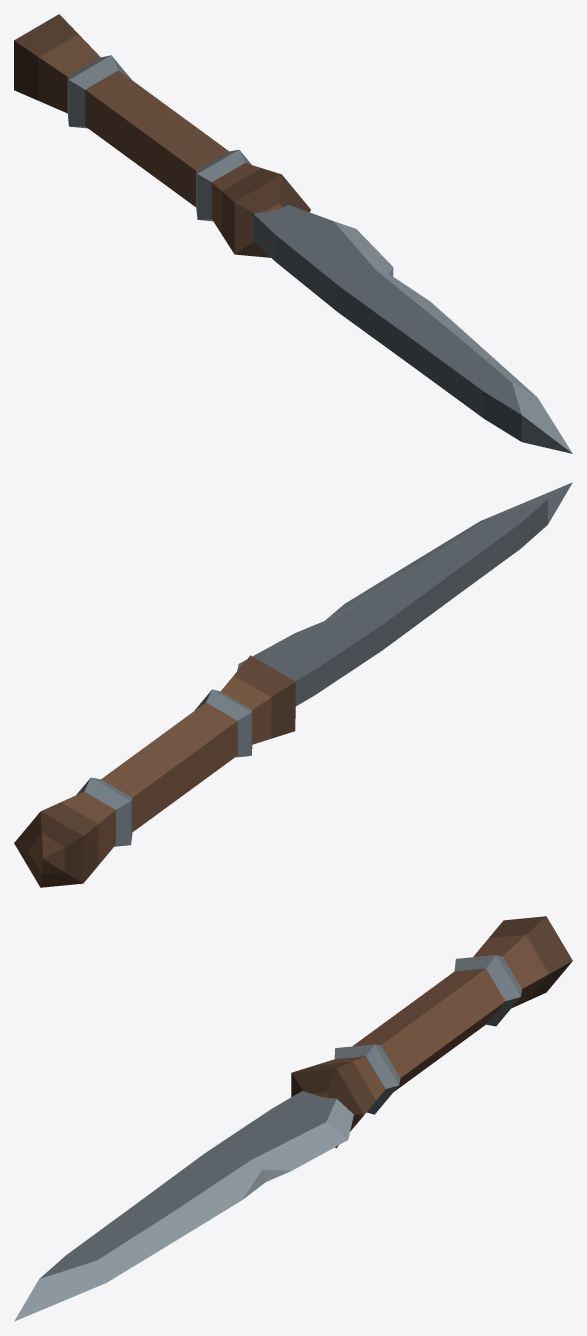
The model's file is SM_Prop_Knife_01.fbx.
3 renders of one model, top to bottom at view 1: azimuth 30°, elevation 25°; view 2: azimuth 150°, elevation 25°; view 3: azimuth 330°, elevation 25°, orthographic. The views are drawn at different scales.
Visible parts, largest first — view 1: SM_Prop_Knife_01; view 2: SM_Prop_Knife_01; view 3: SM_Prop_Knife_01.
Part boxes in pixels (box(x1,y1,x2,y2)): SM_Prop_Knife_01: box(14, 14, 572, 453); SM_Prop_Knife_01: box(14, 482, 572, 887); SM_Prop_Knife_01: box(14, 916, 572, 1321).
Bounding box in the file's own units: 4.01 × 3.55 × 41.78.
